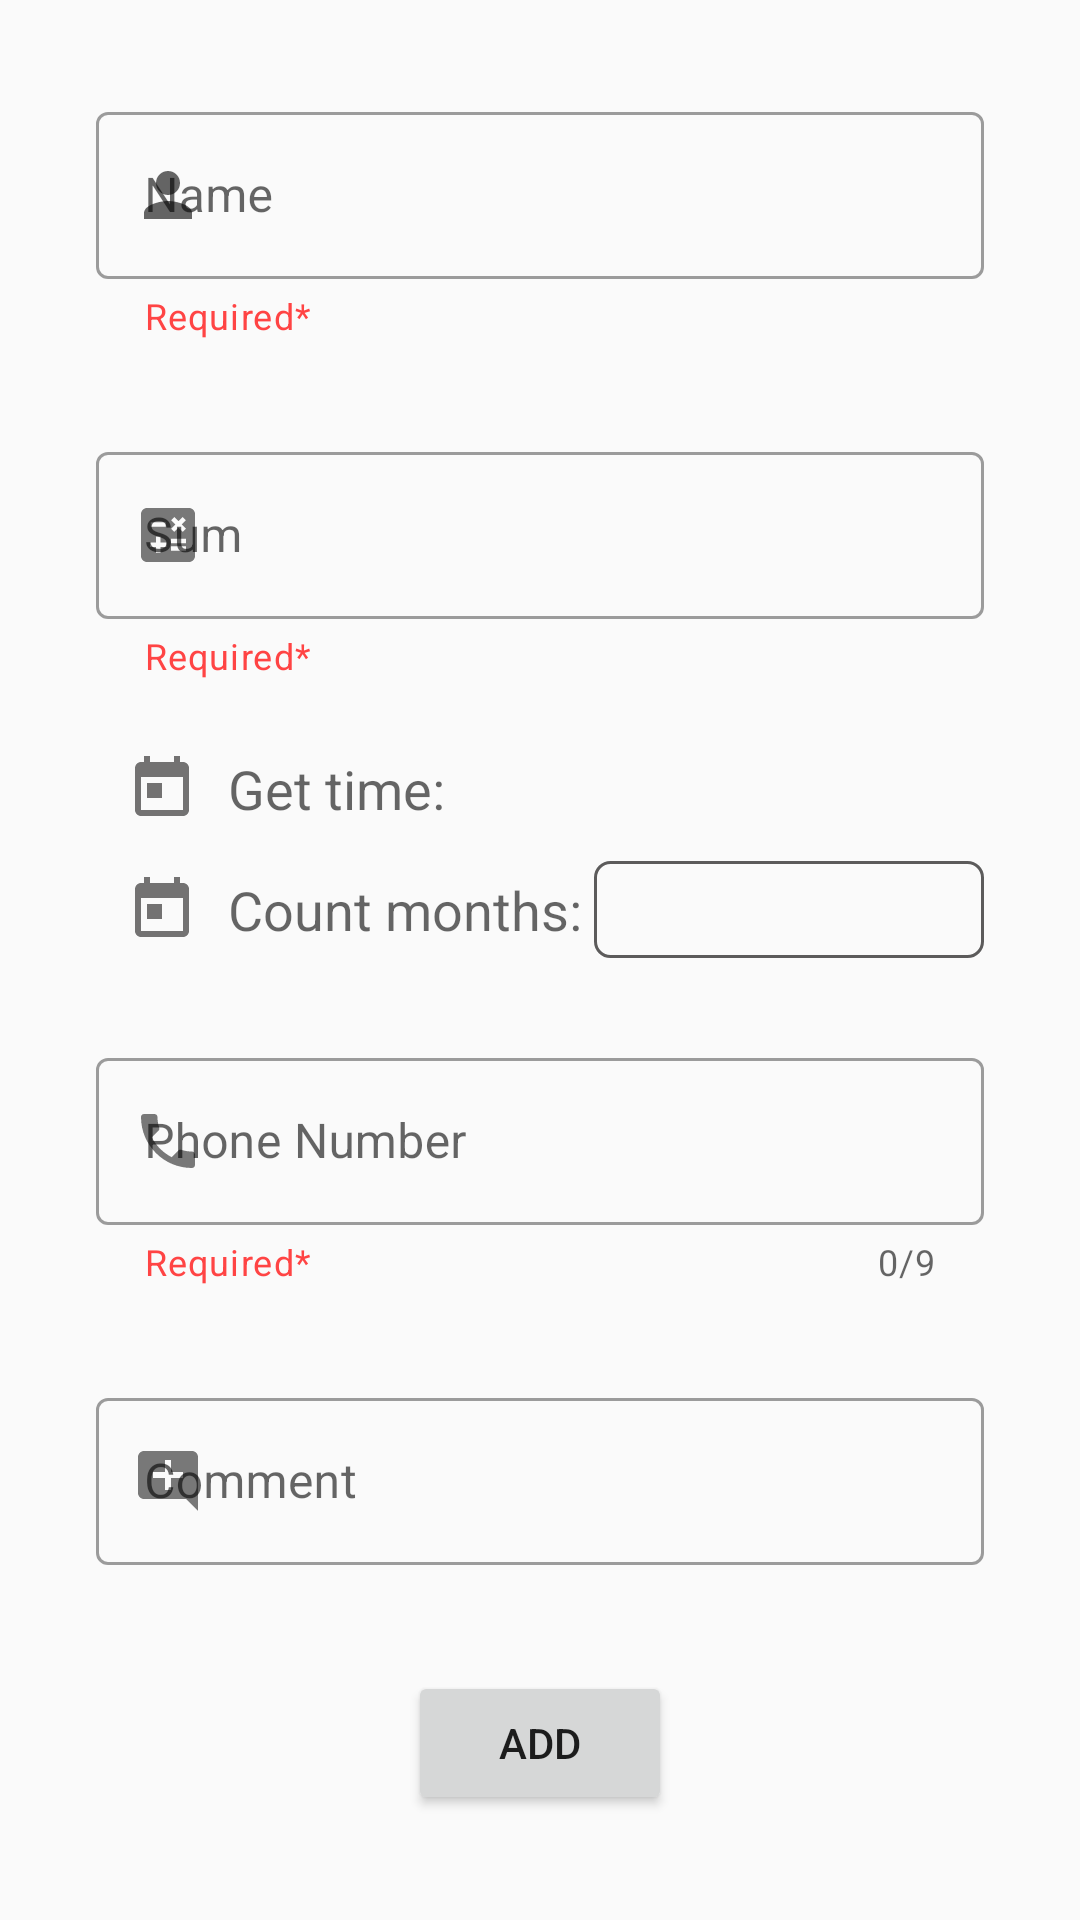

Screen size 1080*1920. Icon name, then its center in pixels as point (x, y):
today: point (162, 786), point (162, 907)
